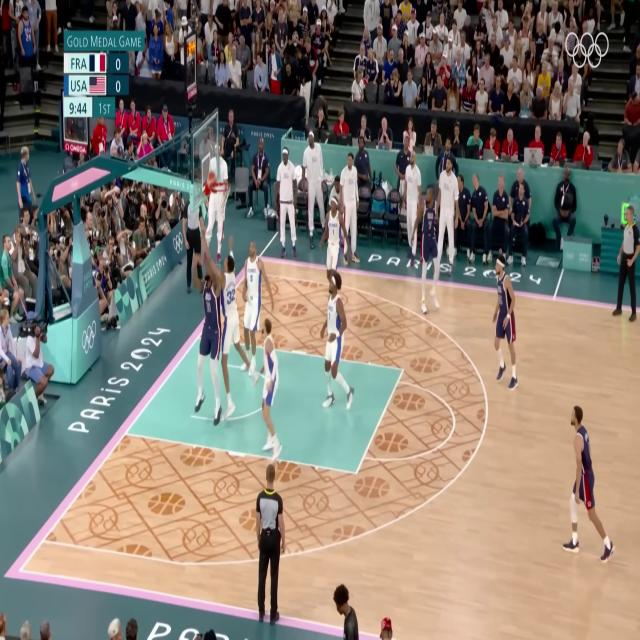player: (564, 404, 614, 570), (193, 241, 221, 426), (215, 242, 247, 401), (487, 253, 521, 396), (322, 274, 354, 414), (237, 240, 269, 373), (255, 315, 284, 461), (416, 186, 450, 304), (323, 192, 347, 276)
